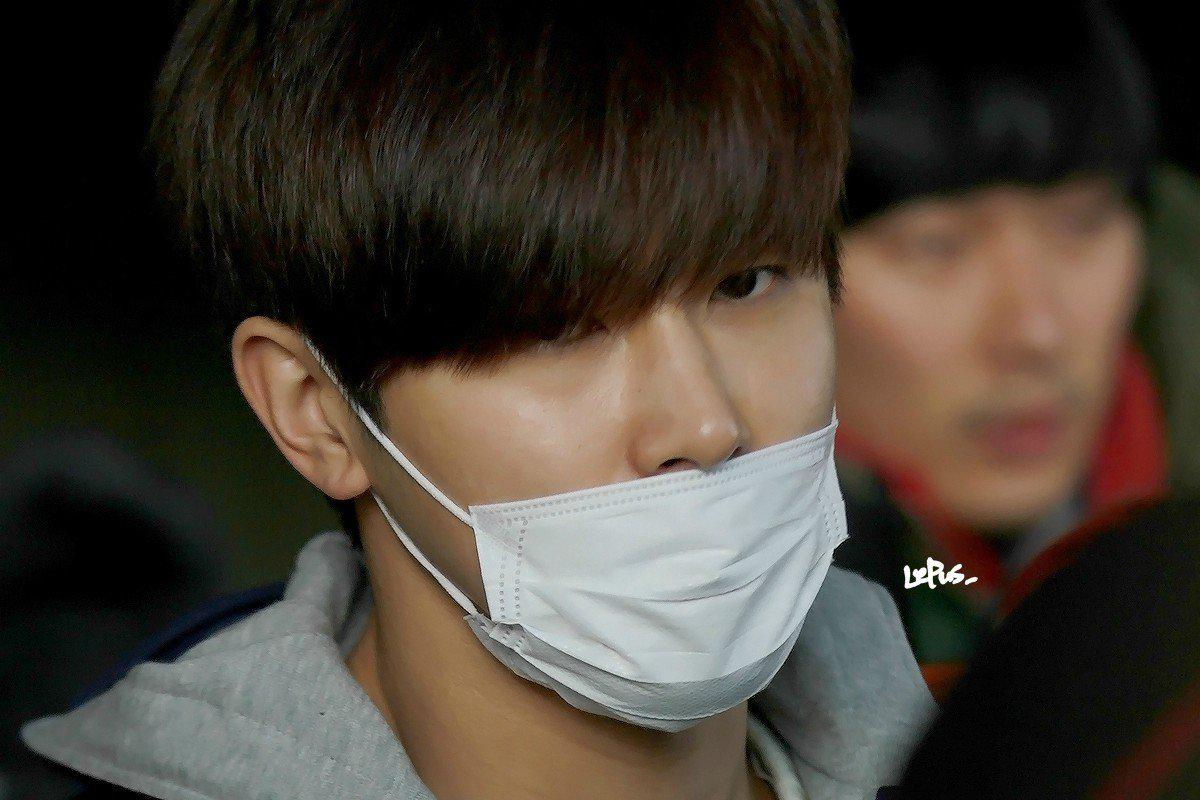NONE: (840, 178, 1136, 530)
WRONG: (421, 210, 846, 723)
